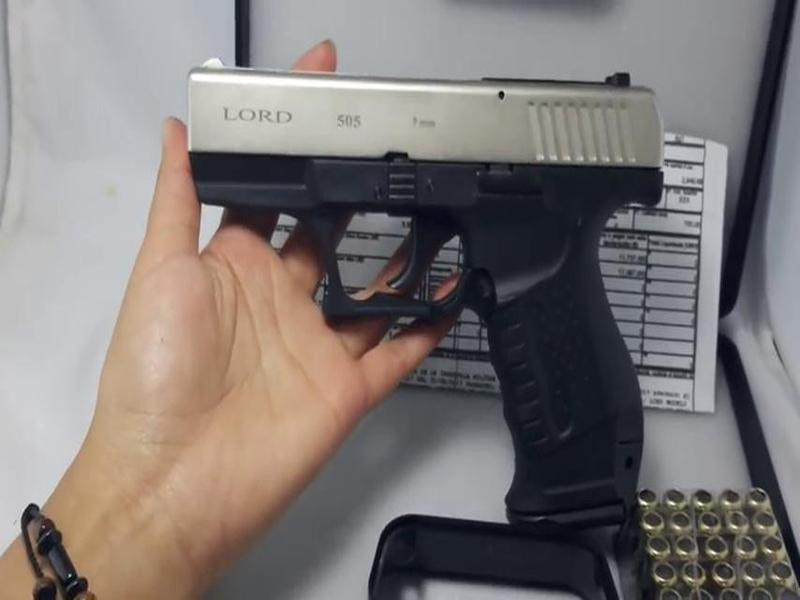Pistola: (156, 42, 688, 520)
